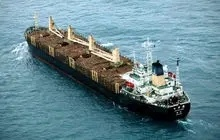Cargoship: (26, 12, 192, 119)
